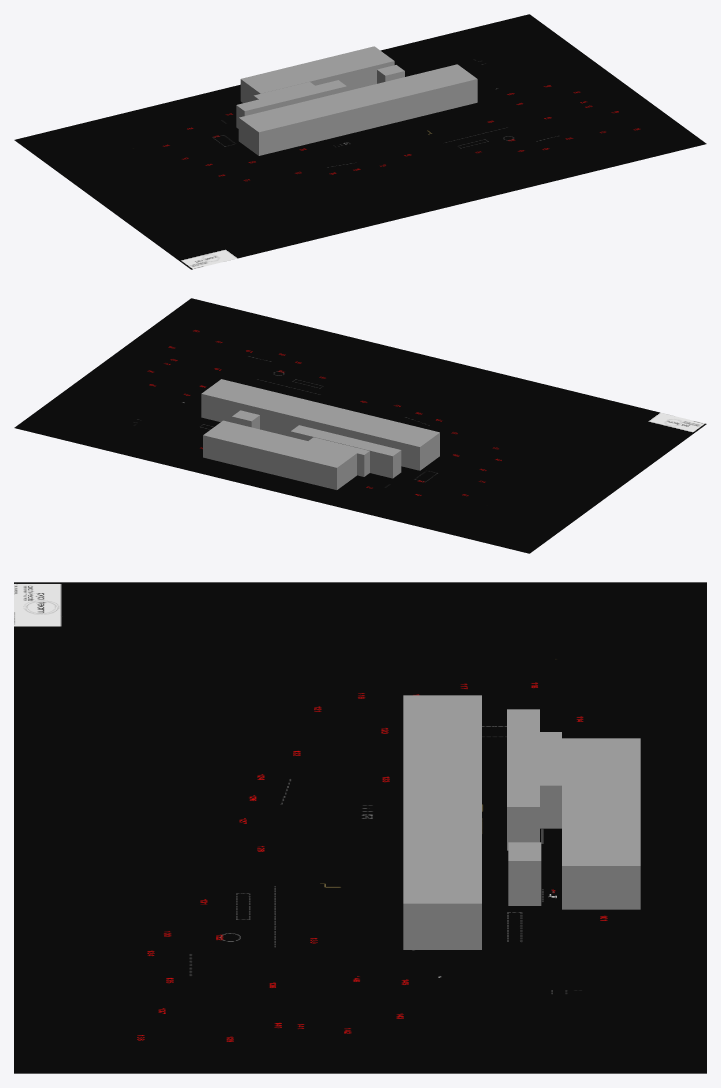
The model's file is BuildWithAndy.fbx.
The picture shows the model from 3 angles, top to bottom: view 1: azimuth 30°, elevation 25°; view 2: azimuth 150°, elevation 25°; view 3: azimuth 270°, elevation 25°; orthographic projection. The views are drawn at different scales.
Parts seen in each view (by area): view 1: pPlane1, pCube2, pCube1, pCube4; view 2: pPlane1, pCube2, pCube1, pCube4, pCube5; view 3: pPlane1, pCube2, pCube1, pCube4, pCube3, pCube5.
Part boxes in pixels (<box>): pPlane1: <box>14,14,706,269</box>; pCube2: <box>238,64,477,155</box>; pCube1: <box>240,46,394,103</box>; pCube4: <box>236,80,346,128</box>; pPlane1: <box>14,298,706,553</box>; pCube2: <box>201,379,439,470</box>; pCube1: <box>203,420,356,489</box>; pCube4: <box>290,425,401,478</box>; pCube5: <box>308,437,369,476</box>; pPlane1: <box>14,582,706,1073</box>; pCube2: <box>403,695,481,949</box>; pCube1: <box>562,738,640,909</box>; pCube4: <box>507,709,539,850</box>; pCube3: <box>508,842,541,905</box>; pCube5: <box>540,732,561,828</box>.
Size of the model in its own units: 7192 by 318 by 4286.
